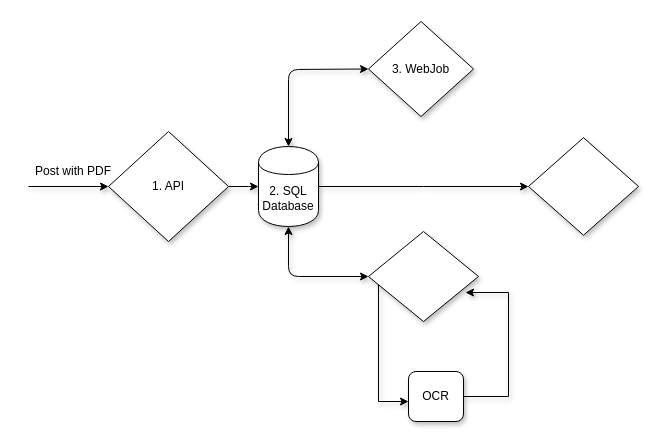
This 662x446 diagram has some shape labels left out. Here are the shapes that lost their labels. From the top down, the centre of each, then its label:
(584,187): 5. App
(424,277): 4. WebJob
